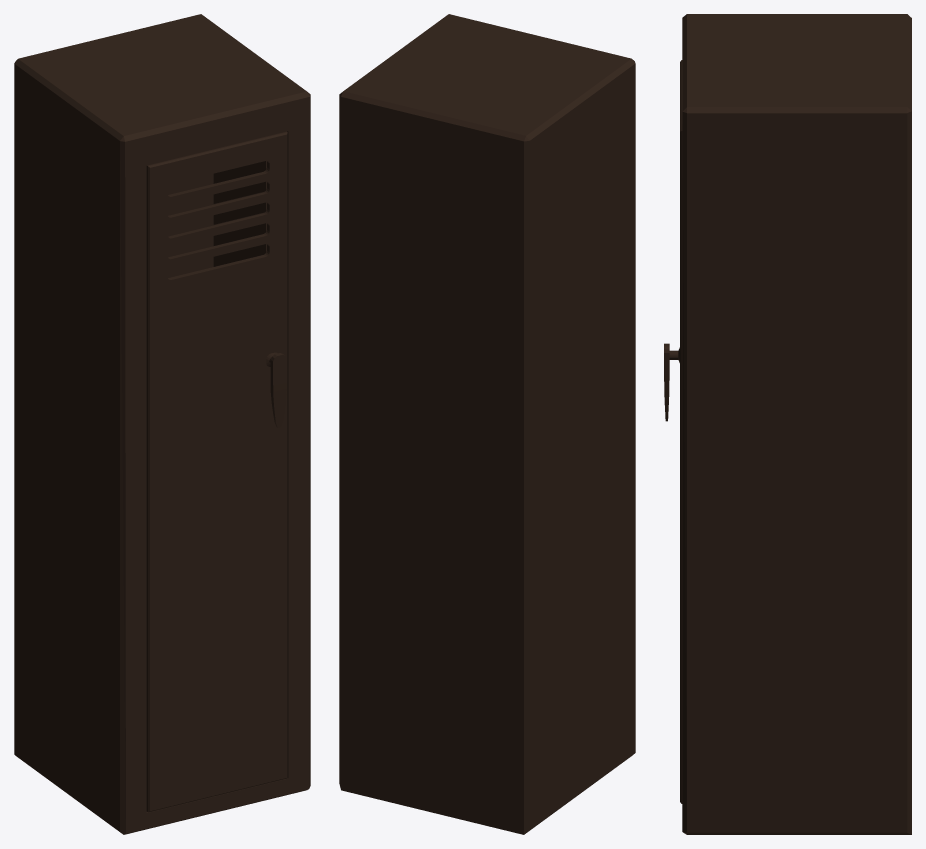
File: Otherlocker.FBX
The picture shows the model from 3 angles, left to right: view 1: azimuth 30°, elevation 25°; view 2: azimuth 150°, elevation 25°; view 3: azimuth 270°, elevation 25°; orthographic projection. The views are drawn at different scales.
Parts seen in each view (by area): view 1: Box01, Box02; view 2: Box01; view 3: Box01, Box02.
Boxes of the visible parts, left/top/right/bottom form: Box01: left=14, top=14, right=310, bottom=834; Box02: left=146, top=131, right=287, bottom=812; Box01: left=339, top=14, right=635, bottom=834; Box01: left=682, top=14, right=911, bottom=834; Box02: left=664, top=60, right=682, bottom=803.
Bounding box in the file's own units: 20 × 70 × 21.6.
